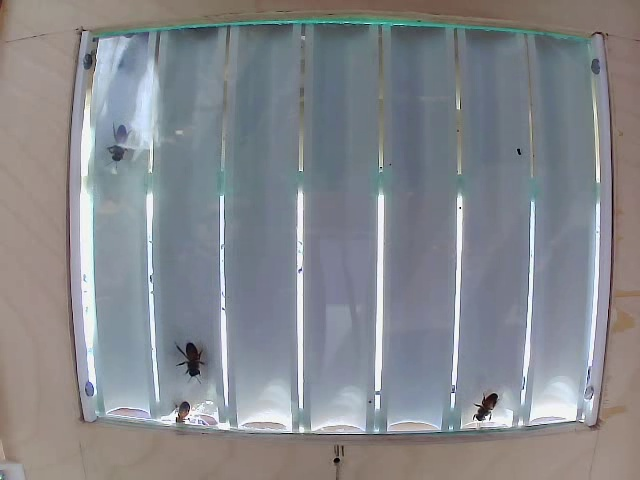bee: (474, 389, 519, 434), (105, 118, 143, 167), (178, 334, 213, 378)
